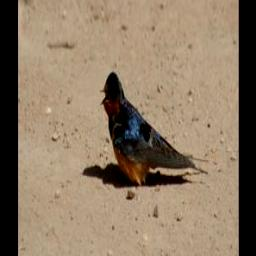Swallow: (100, 70, 208, 182)
